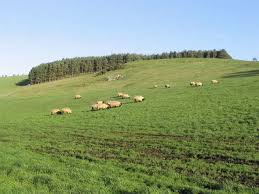sheep: (90, 102, 108, 111), (119, 92, 134, 100), (106, 100, 121, 108), (133, 95, 146, 103), (60, 107, 73, 114), (52, 109, 63, 116), (73, 94, 85, 100), (196, 81, 205, 88), (189, 80, 196, 89), (212, 79, 221, 85), (165, 83, 171, 91), (153, 83, 159, 89)
